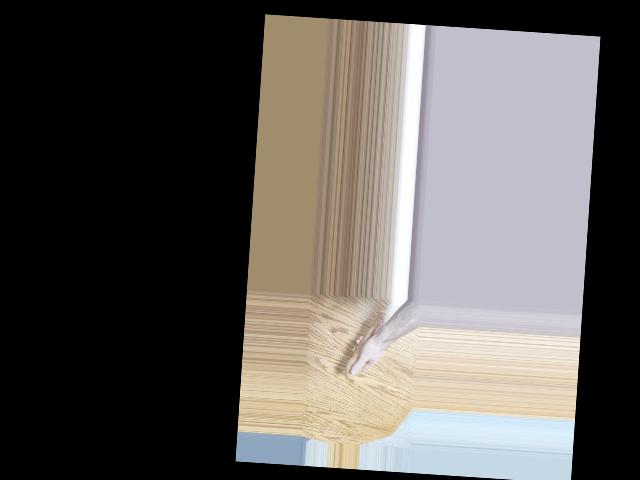sweet_potato: (342, 304, 388, 381)
